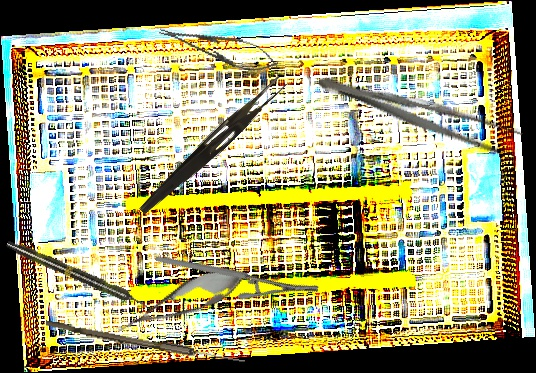Dressing Forceps: (137, 70, 288, 222), (313, 66, 525, 161)
Handpiece: (4, 237, 151, 313)
Micro Scissor: (110, 257, 252, 347)
Needle Holder: (154, 208, 321, 339), (155, 16, 282, 79)
Surgical Spoon: (44, 320, 247, 366)
